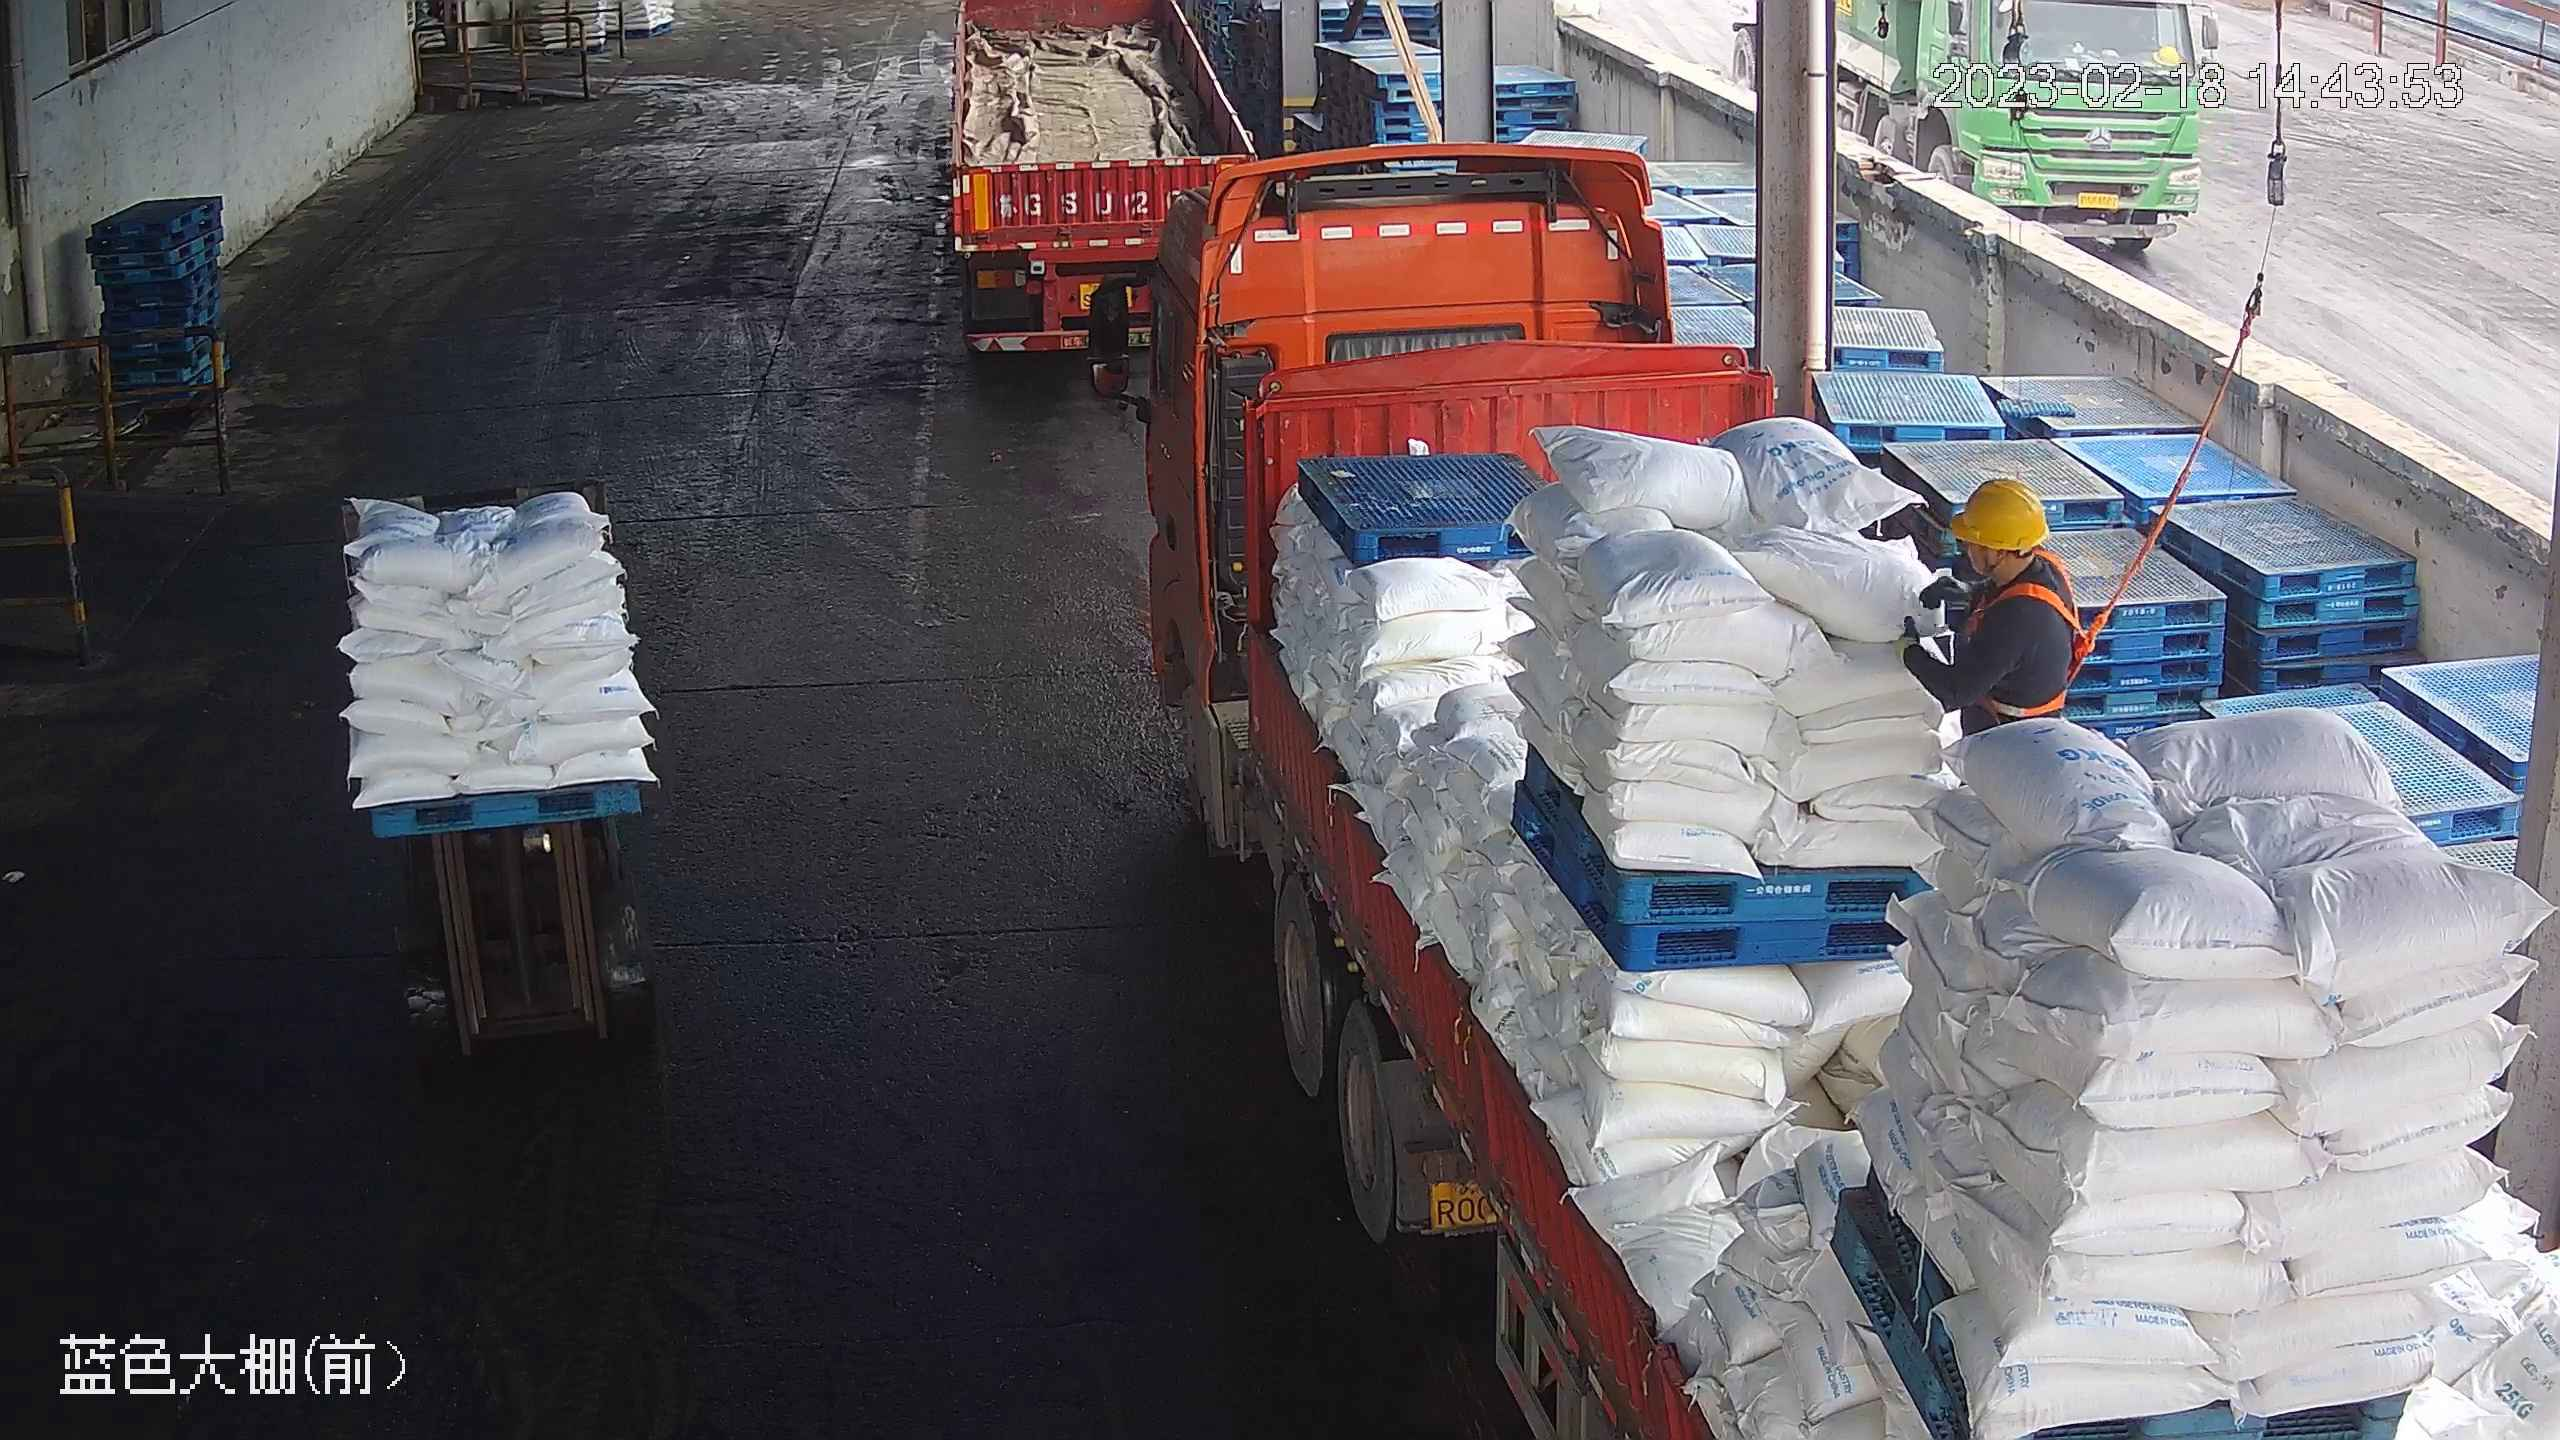belt: (1975, 564, 2106, 719)
head: (1934, 474, 2077, 647)
helmet: (1944, 475, 2050, 548)
people: (1895, 474, 2084, 753)
truck: (1083, 138, 2556, 1438), (946, 2, 1257, 353)
